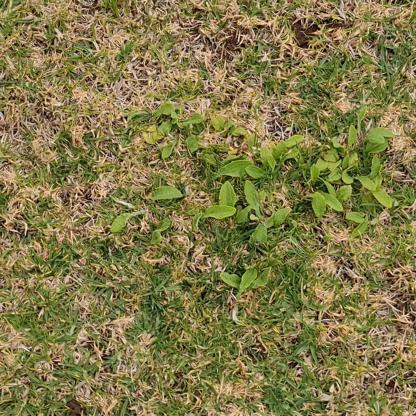Weeds: (111, 103, 396, 293)
